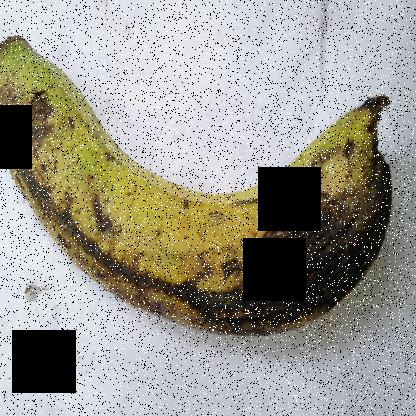rotten: (1, 16, 400, 342)
